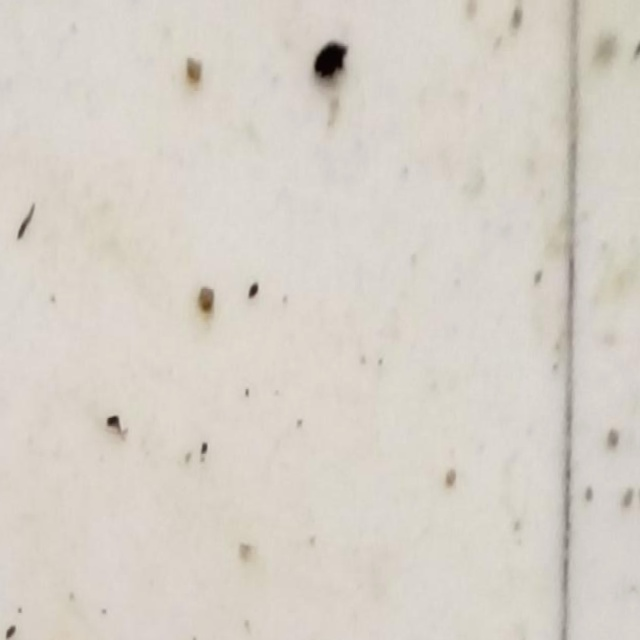varroa: (311, 34, 352, 84)
